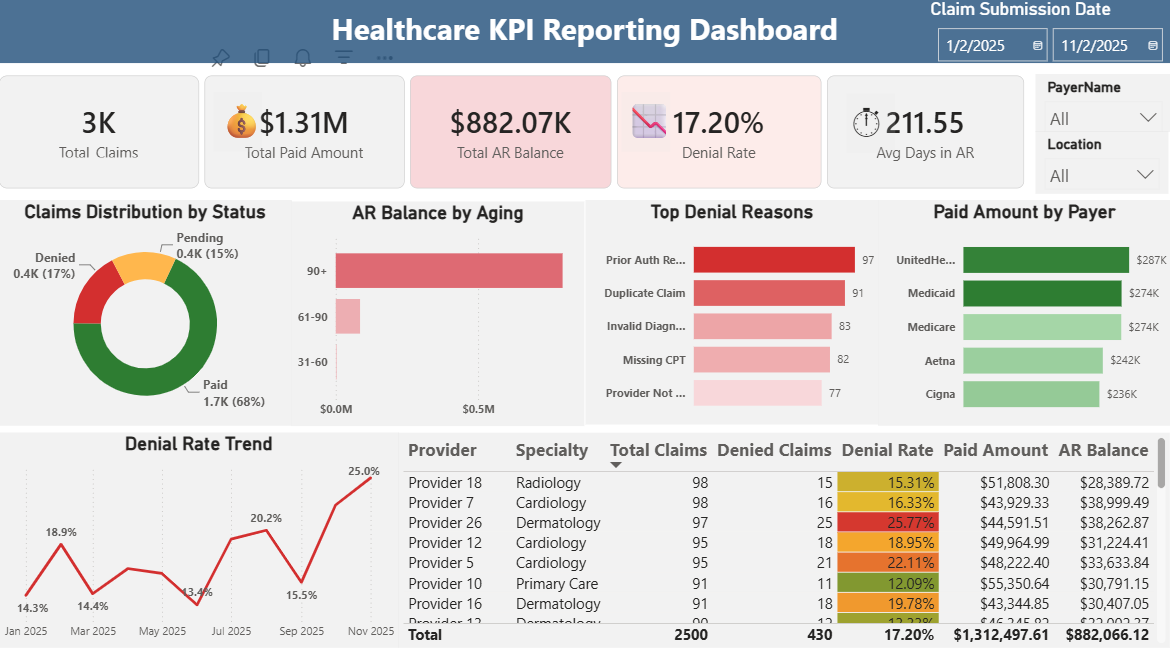

Layout of this report page (visuals, bound fields, positions):
{"tool":"powerbi","page":{"name":"Page 1","canvas":[1280,720],"ordinal":0},"visuals":[{"type":"cardVisual","fields":{"Data":["_Measures.Total_Claims"]},"box":[0,83.3,218.3,123.3],"z":0},{"type":"cardVisual","fields":{"Data":["_Measures.Denial Rate"]},"box":[675.4,83.3,223.3,123.3],"z":1000},{"type":"cardVisual","fields":{"Data":["_Measures.Total Paid Amount"]},"box":[224.6,83.3,218.3,123.3],"z":2000},{"type":"cardVisual","fields":{"Data":["_Measures.Total AR Balance"]},"box":[449.2,83.3,220,123.3],"z":3000},{"type":"cardVisual","fields":{"Data":["_Measures.Avg Days in AR"]},"box":[905,83.3,215,123.3],"z":4000},{"type":"donutChart","title":"Claims Distribution by Status","fields":{"Category":["claims.ClaimStatus"],"Y":["_Measures.Total_Claims"]},"box":[0,220,320,246.7],"z":5000},{"type":"barChart","title":"AR Balance by Aging","fields":{"Category":["claims.ARAgingBucket"],"Y":["_Measures.Total AR Balance"]},"box":[320,221.7,320,245],"z":6000},{"type":"barChart","title":"Top Denial Reasons","fields":{"Category":["denials.DenialReason"],"Y":["_Measures.Denied Claims"]},"box":[640,220,320,245],"z":7000},{"type":"barChart","title":"Paid Amount by Payer","fields":{"Category":["claims.PayerName"],"Y":["_Measures.Total Paid Amount"]},"box":[960,220,320,246.7],"z":8000},{"type":"tableEx","fields":{"Values":["providers.ProviderName","providers.Specialty","_Measures.Total_Claims","_Measures.Denied Claims","_Measures.Denial Rate","_Measures.Total Paid Amount","_Measures.Total AR Balance"]},"box":[436.7,473.3,843.3,235],"z":9000},{"type":"slicer","fields":{"Values":["claims.PayerName"]},"box":[1131.7,81.7,148.3,63.3],"z":10000},{"type":"slicer","fields":{"Values":["providers.Location"]},"box":[1131.7,145,145,68.3],"z":11000},{"type":"textbox","box":[0,0,1280,70],"z":12000},{"type":"textbox","box":[235,101.7,53.3,65],"z":13000},{"type":"textbox","box":[680,101.7,53.3,65],"z":14000},{"type":"textbox","box":[926.7,103.3,53.3,65],"z":15000},{"type":"lineChart","title":"Denial Rate Trend","fields":{"Y":["_Measures.Denial Rate"],"Category":["claims.ClaimSubmitDate.Variation.Date Hierarchy.Year","claims.ClaimSubmitDate.Variation.Date Hierarchy.Month"]},"box":[0,473.3,436.7,235],"z":16000},{"type":"slicer","title":"Claim Submission Date","fields":{"Values":["claims.ClaimSubmitDate"]},"box":[1013.3,0,266.7,70],"z":17000}]}

Visuals, with their boxes in screenshot pixels (x1, y1, x2, y2), scaled from the page's 1280x720 canvas onto the 1171x652 screenshot:
cardVisual - _Measures.Total_Claims: region(0, 75, 200, 187)
cardVisual - _Measures.Denial Rate: region(618, 75, 822, 187)
cardVisual - _Measures.Total Paid Amount: region(205, 75, 405, 187)
cardVisual - _Measures.Total AR Balance: region(411, 75, 612, 187)
cardVisual - _Measures.Avg Days in AR: region(828, 75, 1025, 187)
"Claims Distribution by Status" donutChart: region(0, 199, 293, 423)
"AR Balance by Aging" barChart: region(293, 201, 586, 423)
"Top Denial Reasons" barChart: region(586, 199, 878, 421)
"Paid Amount by Payer" barChart: region(878, 199, 1170, 423)
tableEx - providers.ProviderName x providers.Specialty: region(400, 429, 1170, 641)
slicer - claims.PayerName: region(1035, 74, 1170, 131)
slicer - providers.Location: region(1035, 131, 1168, 193)
textbox: region(0, 0, 1170, 63)
textbox: region(215, 92, 264, 151)
textbox: region(622, 92, 671, 151)
textbox: region(848, 94, 897, 152)
"Denial Rate Trend" lineChart: region(0, 429, 400, 641)
"Claim Submission Date" slicer: region(927, 0, 1170, 63)
